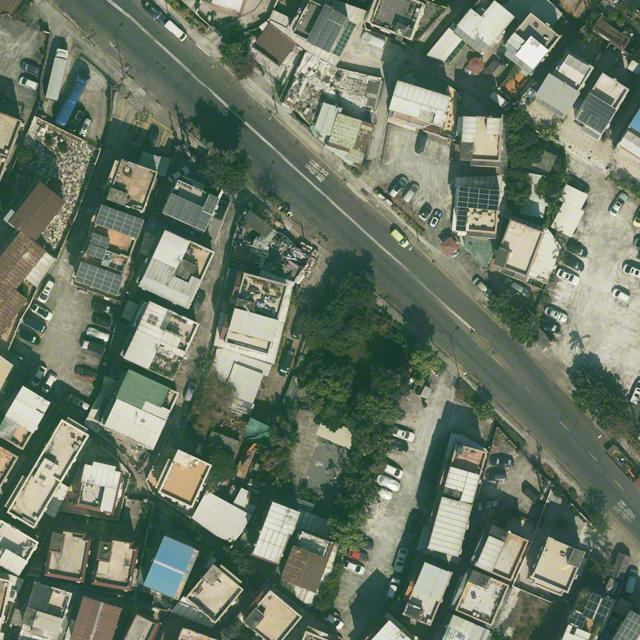SolarPanel: (163, 193, 218, 232), (306, 5, 347, 54), (74, 261, 124, 296), (95, 204, 144, 239), (576, 93, 616, 134), (457, 184, 499, 210), (582, 592, 612, 624), (332, 22, 356, 56), (612, 610, 639, 639), (86, 233, 110, 260), (567, 610, 587, 628), (456, 210, 468, 231)
